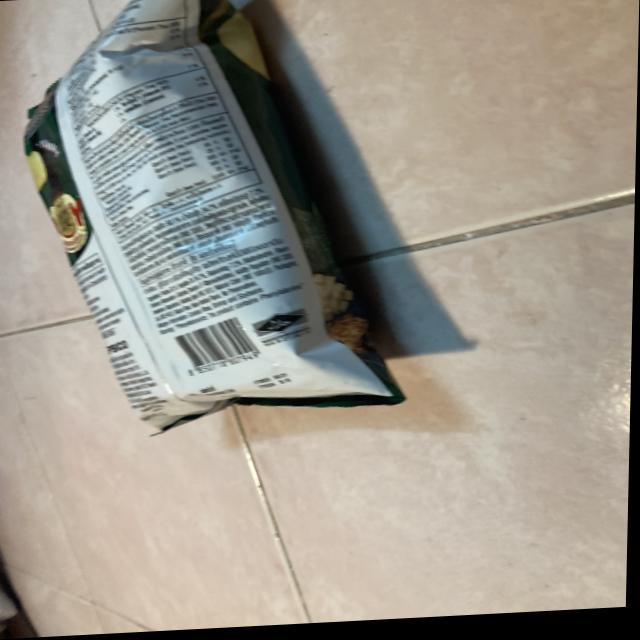Laygreen: (7, 0, 418, 451)
